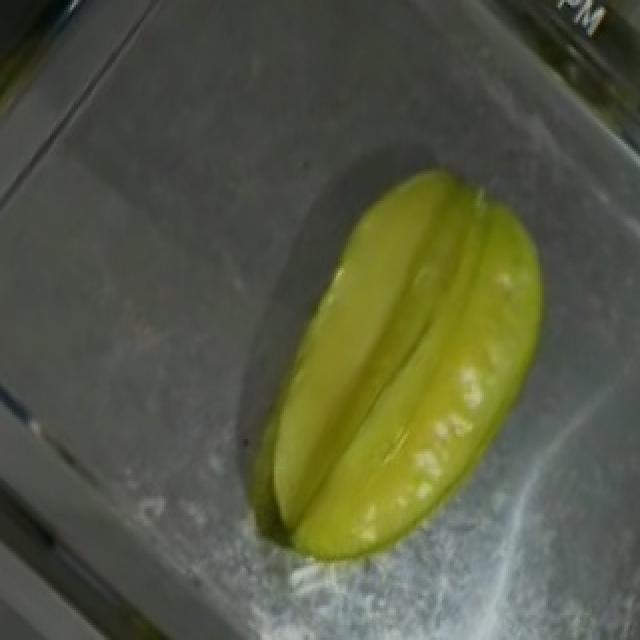fruit: (248, 121, 626, 531)
